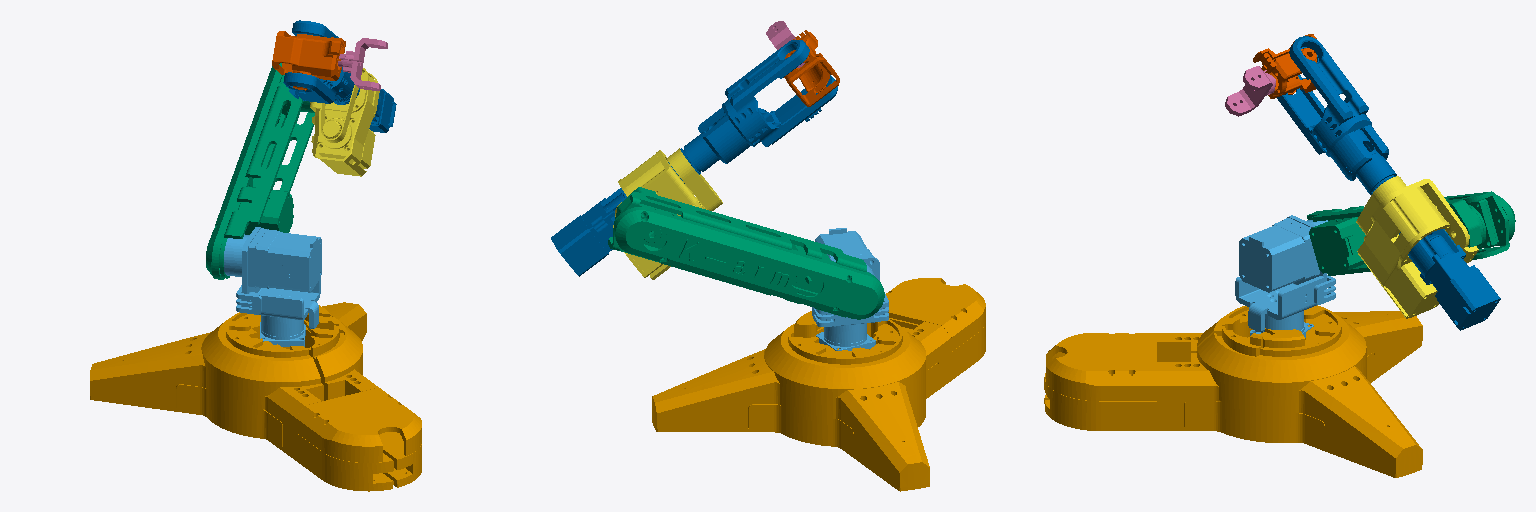
URDF robot description (arm_description):
<?xml version="1.0" encoding="UTF-8"?>
<robot name="arm_description">
  <link name="base_link">
    <inertial>
      <mass value="7.14872571"/>
      <origin xyz="0.00031207 0.03211671 0.03073628" rpy="0 0 0"/>
      <inertia ixx="0.04607342" ixy="-0.00002464" ixz="-0.00008105" iyy="0.02469195" iyz="-0.00061321" izz="0.06493327"/>
    </inertial>
    <visual>
      <origin xyz="0 0 0" rpy="0 0 0"/>
      <geometry>
        <mesh filename="package://arm_description/meshes/base_link.stl"/>
      </geometry>
    </visual>
    <collision>
      <origin xyz="0 0 0" rpy="0 0 0"/>
      <geometry>
        <mesh filename="package://arm_description/meshes/base_link.stl"/>
      </geometry>
    </collision>
  </link>
  <link name="Link_1">
    <inertial>
      <mass value="0.57848047"/>
      <origin xyz="0.00123363 -0.00021385 0.05305743" rpy="0 0 0"/>
      <inertia ixx="0.00051134" ixy="-3.3e-7" ixz="0.00002033" iyy="0.00060483" iyz="-0.00000102" izz="0.00036384"/>
    </inertial>
    <visual>
      <origin xyz="0 0 0" rpy="0 0 0"/>
      <geometry>
        <mesh filename="package://arm_description/meshes/Link_1.stl"/>
      </geometry>
    </visual>
    <collision>
      <origin xyz="0 0 0" rpy="0 0 0"/>
      <geometry>
        <mesh filename="package://arm_description/meshes/Link_1.stl"/>
      </geometry>
    </collision>
  </link>
  <link name="Link_2">
    <inertial>
      <mass value="0.76000701"/>
      <origin xyz="-0.1077907 0.0000766 -0.01149107" rpy="0 0 0"/>
      <inertia ixx="0.00039175" ixy="0.00000721" ixz="0.00017714" iyy="0.00457239" iyz="0.00000183" izz="0.00460255"/>
    </inertial>
    <visual>
      <origin xyz="0 0 0" rpy="0 0 0"/>
      <geometry>
        <mesh filename="package://arm_description/meshes/Link_2.stl"/>
      </geometry>
    </visual>
    <collision>
      <origin xyz="0 0 0" rpy="0 0 0"/>
      <geometry>
        <mesh filename="package://arm_description/meshes/Link_2.stl"/>
      </geometry>
    </collision>
  </link>
  <link name="Link_3">
    <inertial>
      <mass value="0.61846202"/>
      <origin xyz="0.02806316 0.01315082 -0.0367866" rpy="0 0 0"/>
      <inertia ixx="0.0004893" ixy="0.00009982" ixz="0.00003613" iyy="0.00051115" iyz="0.00000453" izz="0.00074479"/>
    </inertial>
    <visual>
      <origin xyz="0 0 0" rpy="0 0 0"/>
      <geometry>
        <mesh filename="package://arm_description/meshes/Link_3.stl"/>
      </geometry>
    </visual>
    <collision>
      <origin xyz="0 0 0" rpy="0 0 0"/>
      <geometry>
        <mesh filename="package://arm_description/meshes/Link_3.stl"/>
      </geometry>
    </collision>
  </link>
  <link name="Link_4">
    <inertial>
      <mass value="0.75422379"/>
      <origin xyz="0.00007716 -0.00001007 0.0073403" rpy="0 0 0"/>
      <inertia ixx="0.00613059" ixy="5.4e-7" ixz="-0.00003068" iyy="0.00619208" iyz="-7.2e-7" izz="0.00025988"/>
    </inertial>
    <visual>
      <origin xyz="0 0 0" rpy="0 0 0"/>
      <geometry>
        <mesh filename="package://arm_description/meshes/Link_4.stl"/>
      </geometry>
    </visual>
    <collision>
      <origin xyz="0 0 0" rpy="0 0 0"/>
      <geometry>
        <mesh filename="package://arm_description/meshes/Link_4.stl"/>
      </geometry>
    </collision>
  </link>
  <link name="Link_5">
    <inertial>
      <mass value="0.10076769"/>
      <origin xyz="0.00490907 -0.00678848 -0.03041582" rpy="0 0 0"/>
      <inertia ixx="0.00005054" ixy="0.00000421" ixz="0.00000125" iyy="0.00003343" iyz="-0.00000225" izz="0.0000419"/>
    </inertial>
    <visual>
      <origin xyz="0 0 0" rpy="0 0 0"/>
      <geometry>
        <mesh filename="package://arm_description/meshes/Link_5.stl"/>
      </geometry>
    </visual>
    <collision>
      <origin xyz="0 0 0" rpy="0 0 0"/>
      <geometry>
        <mesh filename="package://arm_description/meshes/Link_5.stl"/>
      </geometry>
    </collision>
  </link>
  <link name="Link_6">
    <inertial>
      <mass value="0.03933331"/>
      <origin xyz="0.00002461 -0.00023702 0.01991533" rpy="0 0 0"/>
      <inertia ixx="0.00000484" ixy="5e-8" ixz="2e-8" iyy="0.00001166" iyz="-7e-8" izz="0.00000922"/>
    </inertial>
    <visual>
      <origin xyz="0 0 0" rpy="0 0 0"/>
      <geometry>
        <mesh filename="package://arm_description/meshes/Link_6.stl"/>
      </geometry>
    </visual>
    <collision>
      <origin xyz="0 0 0" rpy="0 0 0"/>
      <geometry>
        <mesh filename="package://arm_description/meshes/Link_6.stl"/>
      </geometry>
    </collision>
  </link>
  <joint name="Joint_1" type="revolute">
    <parent link="base_link"/>
    <child link="Link_1"/>
    <origin xyz="-0.00003461 0.04262805 0.07986836" rpy="0 0 2.33001455"/>
    <axis xyz="0 0 -1"/>
    <limit lower="0" upper="4.712" effort="10" velocity="1"/>
  </joint>
  <joint name="Joint_2" type="revolute">
    <parent link="Link_1"/>
    <child link="Link_2"/>
    <origin xyz="0.0554 0 0.0663" rpy="1.57079633 0.40142573 1.57079633"/>
    <axis xyz="0 0 -1"/>
    <limit lower="0" upper="2.740" effort="10" velocity="1"/>
  </joint>
  <joint name="Joint_3" type="revolute">
    <parent link="Link_2"/>
    <child link="Link_3"/>
    <origin xyz="-0.21500002 0 -0.0264" rpy="0 0 -0.55850536"/>
    <axis xyz="0 0 1"/>
    <limit lower="0" upper="2.304" effort="10" velocity="1"/>
  </joint>
  <joint name="Joint_4" type="revolute">
    <parent link="Link_3"/>
    <child link="Link_4"/>
    <origin xyz="0 0.04879037 -0.04004253" rpy="1.57952416 0.00000000 3.14159265"/>
    <axis xyz="0 0 -1"/>
    <limit lower="0" upper="3.142" effort="10" velocity="1"/>
  </joint>
  <joint name="Joint_5" type="revolute">
    <parent link="Link_4"/>
    <child link="Link_5"/>
    <origin xyz="-0.03100018 0 0.15059996" rpy="0 -1.57079633 0"/>
    <axis xyz="0 0 1"/>
    <limit lower="-1.571" upper="1.571" effort="10" velocity="1"/>
  </joint>
  <joint name="Joint_6" type="revolute">
    <parent link="Link_5"/>
    <child link="Link_6"/>
    <origin xyz="3e-8 -0.033 -0.0311" rpy="1.57079633 1.56206849 0"/>
    <axis xyz="0 0 1"/>
    <limit lower="-1.571" upper="1.571" effort="10" velocity="1"/>
  </joint>
</robot>

--- Render facts (derived) ---
The picture shows the robot from 3 angles, left to right: view 1: azimuth 30°, elevation 25°; view 2: azimuth 150°, elevation 25°; view 3: azimuth 270°, elevation 25°; orthographic projection.
Model arm_description with 7 links and 6 joints (6 revolute), rooted at base_link, posed all joints at 0.
Visible links, largest first — view 1: base_link, Link_2, Link_1, Link_3, Link_4, Link_5, Link_6; view 2: base_link, Link_2, Link_4, Link_3, Link_1, Link_5; view 3: base_link, Link_4, Link_3, Link_1, Link_2, Link_5, Link_6.
Boxes of the visible links, x1,y1,x2,y2 form: base_link: [90, 302, 421, 491]; Link_2: [206, 63, 314, 279]; Link_1: [224, 227, 321, 346]; Link_3: [310, 68, 379, 176]; Link_4: [283, 20, 396, 132]; Link_5: [272, 31, 345, 90]; Link_6: [338, 38, 387, 90]; base_link: [652, 278, 985, 491]; Link_2: [608, 187, 884, 319]; Link_4: [551, 40, 837, 276]; Link_3: [613, 148, 722, 279]; Link_1: [812, 228, 888, 350]; Link_5: [784, 30, 839, 106]; base_link: [1044, 305, 1422, 477]; Link_4: [1277, 36, 1500, 330]; Link_3: [1356, 176, 1478, 318]; Link_1: [1235, 215, 1335, 337]; Link_2: [1307, 191, 1515, 275]; Link_5: [1253, 34, 1316, 98]; Link_6: [1225, 66, 1275, 116].
Bounding box of the posed robot: 0.3668 × 0.4167 × 0.3783 m (x, y, z).
Meshes: 7 distinct files referenced, 7 mesh visuals loaded (7 binary STL).
